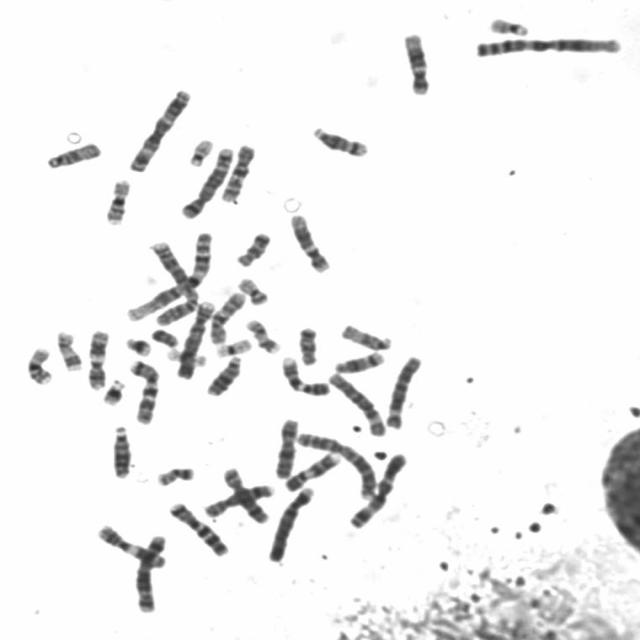A1: (120, 226, 216, 323), (467, 30, 625, 60)
A2: (290, 426, 380, 501), (147, 241, 202, 327)
A3: (122, 82, 194, 173), (343, 446, 410, 530)
B4: (262, 481, 317, 564), (171, 294, 217, 380)
B5: (174, 140, 236, 220), (128, 528, 170, 614)
C10: (214, 138, 258, 204), (204, 286, 247, 345)
C11: (91, 518, 168, 571), (81, 324, 111, 391)
C12: (284, 208, 332, 274), (398, 26, 433, 96)
C6: (322, 366, 389, 438), (380, 349, 425, 430)
C7: (163, 496, 231, 557), (124, 352, 162, 426)
C8: (217, 462, 271, 524), (198, 478, 277, 519)
C9: (278, 447, 342, 492), (274, 351, 332, 397)
D13: (200, 350, 244, 397), (105, 420, 133, 479)
D14: (306, 120, 371, 158), (328, 345, 388, 374)
D15: (40, 136, 102, 170), (335, 317, 394, 352)
E16: (98, 172, 134, 225), (20, 341, 56, 386)
E17: (239, 313, 283, 355), (51, 324, 84, 372)
E18: (230, 225, 274, 268), (292, 321, 321, 366)
F19: (161, 343, 208, 367), (210, 332, 253, 358)
F20: (232, 271, 270, 306), (150, 460, 197, 487)
G21: (96, 373, 127, 406), (120, 331, 154, 357)
G22: (483, 12, 532, 38), (182, 133, 215, 167)
X: (268, 412, 302, 480)
Y: (146, 323, 180, 348)
